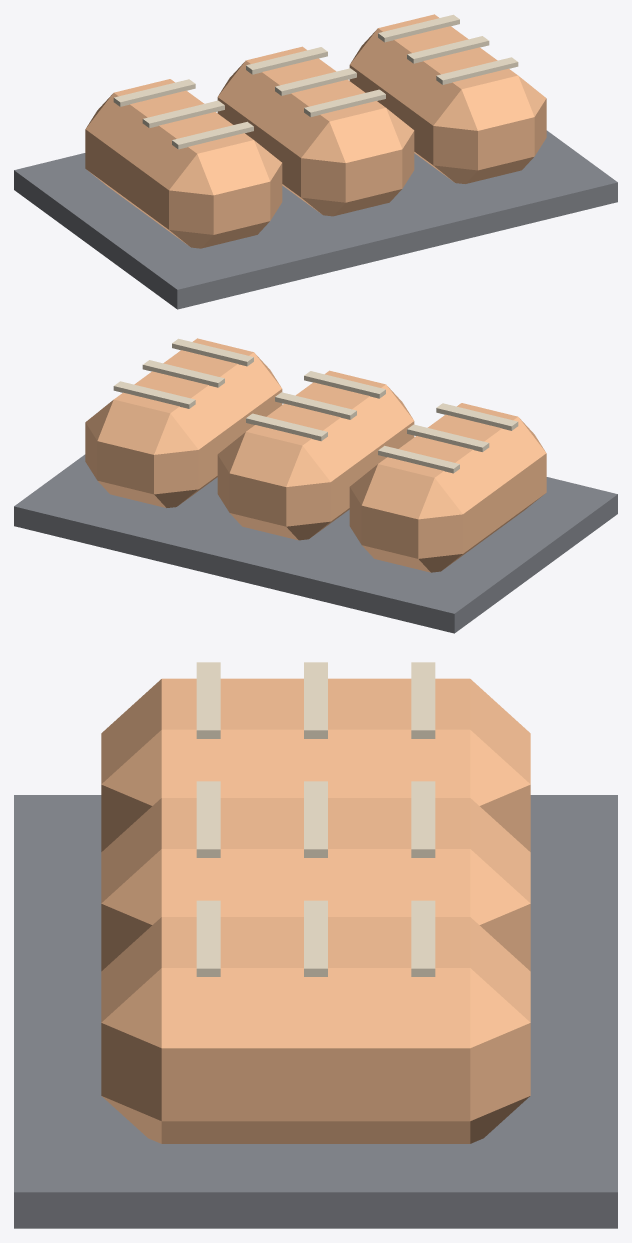
The picture shows the model from 3 angles, top to bottom: view 1: azimuth 30°, elevation 25°; view 2: azimuth 150°, elevation 25°; view 3: azimuth 270°, elevation 25°; orthographic projection. The views are drawn at different scales.
Parts seen in each view (by area): view 1: Baking tray, Bread loaf, Bread loaf.001, Bread loaf.002, Bread score.001, Bread score.002, Bread score.006, Bread score.007, Bread score, Bread score.005, Bread score.004, Bread score.008 (+1 smaller); view 2: Baking tray, Bread loaf, Bread loaf.001, Bread loaf.002, Bread score, Bread score.001, Bread score.008, Bread score.007, Bread score.002, Bread score.003, Bread score.004, Bread score.006 (+1 smaller); view 3: Baking tray, Bread loaf.002, Bread loaf, Bread loaf.001, Bread score, Bread score.002, Bread score.003, Bread score.005, Bread score.006, Bread score.008, Bread score.001, Bread score.004 (+1 smaller).
Part boxes in pixels (x1,y1,x2,y2): Baking tray: (14, 130, 617, 309); Bread loaf: (85, 79, 282, 248); Bread loaf.001: (217, 46, 414, 216); Bread loaf.002: (349, 14, 546, 183); Bread score.001: (142, 100, 224, 127); Bread score.002: (113, 79, 195, 106); Bread score.006: (436, 57, 518, 84); Bread score.007: (407, 36, 489, 63); Bread score: (172, 121, 253, 149); Bread score.005: (246, 47, 327, 74); Bread score.004: (275, 68, 356, 95); Bread score.008: (378, 14, 459, 42); Baking tray: (14, 454, 617, 633); Bread loaf: (349, 403, 546, 572); Bread loaf.001: (217, 370, 414, 540); Bread loaf.002: (85, 338, 282, 507); Bread score: (436, 403, 518, 430); Bread score.001: (407, 424, 489, 451); Bread score.008: (113, 381, 195, 408); Bread score.007: (142, 360, 224, 387); Bread score.002: (378, 445, 459, 473); Bread score.003: (304, 371, 385, 398); Bread score.004: (275, 392, 356, 419); Bread score.006: (172, 338, 253, 366); Baking tray: (14, 795, 617, 1228); Bread loaf.002: (101, 917, 530, 1143); Bread loaf: (101, 678, 530, 851); Bread loaf.001: (101, 798, 530, 971); Bread score: (196, 662, 220, 738); Bread score.002: (411, 662, 435, 738); Bread score.003: (196, 781, 220, 857); Bread score.005: (411, 781, 435, 857); Bread score.006: (196, 900, 220, 976); Bread score.008: (411, 900, 435, 976); Bread score.001: (304, 662, 327, 738); Bread score.004: (304, 781, 327, 857).
Size of the model in its own units: 70 by 17.65 by 45.
